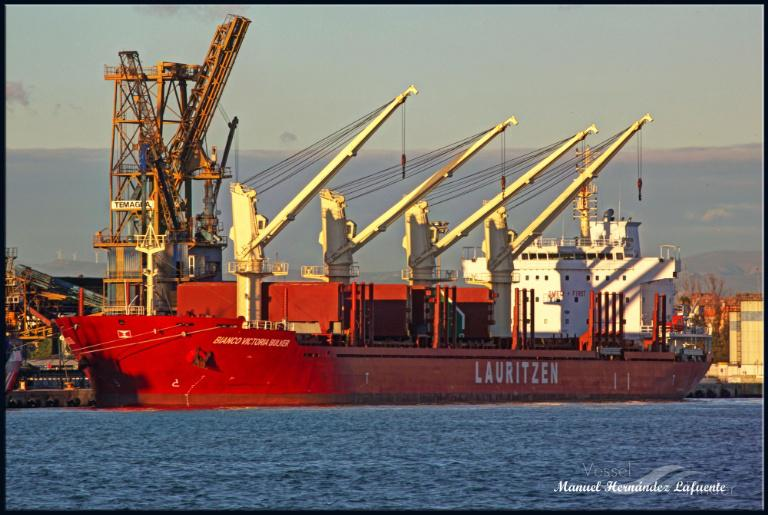OCR: (460, 358, 570, 392), (204, 331, 302, 352)
